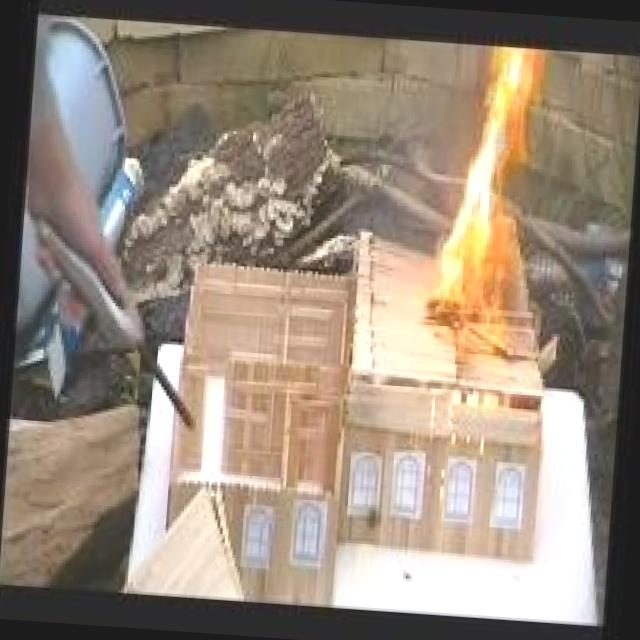fire: (383, 38, 586, 350)
